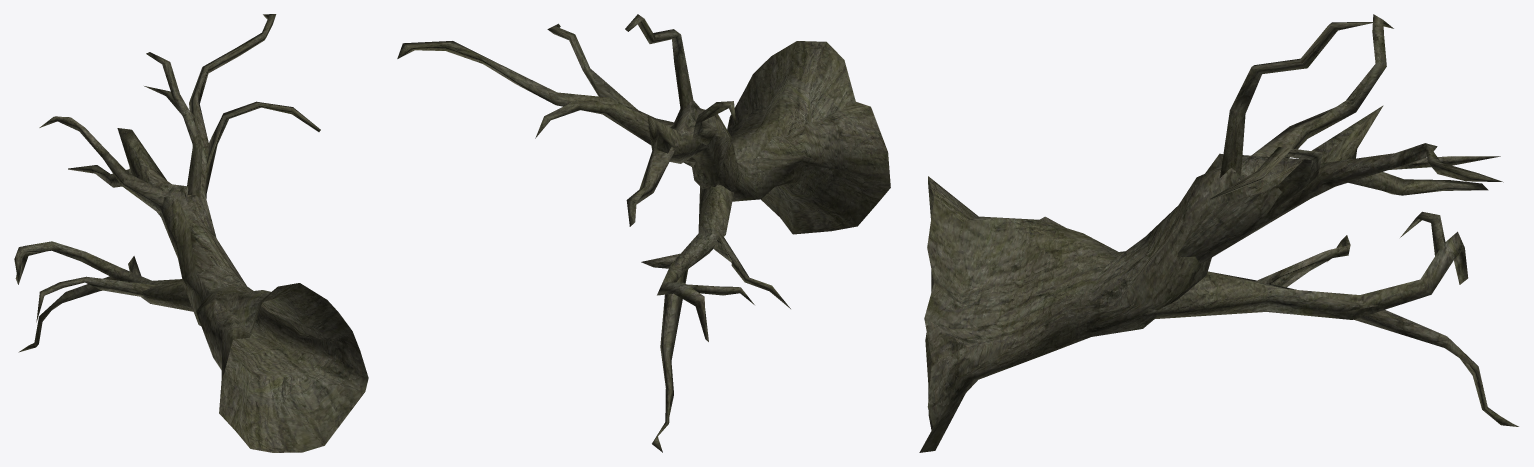
Rendered from TI_Old_Tree_04_LOD_02.fbx.
The picture shows the model from 3 angles, left to right: view 1: azimuth 30°, elevation 25°; view 2: azimuth 150°, elevation 25°; view 3: azimuth 270°, elevation 25°; orthographic projection. The views are drawn at different scales.
Parts seen in each view (by area): view 1: TI_Old_Tree_04_LOD_02; view 2: TI_Old_Tree_04_LOD_02; view 3: TI_Old_Tree_04_LOD_02.
Part boxes in pixels (<box>): TI_Old_Tree_04_LOD_02: <box>14,14,368,452</box>; TI_Old_Tree_04_LOD_02: <box>397,14,890,452</box>; TI_Old_Tree_04_LOD_02: <box>919,14,1518,452</box>.
Size of the model in its own units: 7.47 by 7.78 by 9.11.
